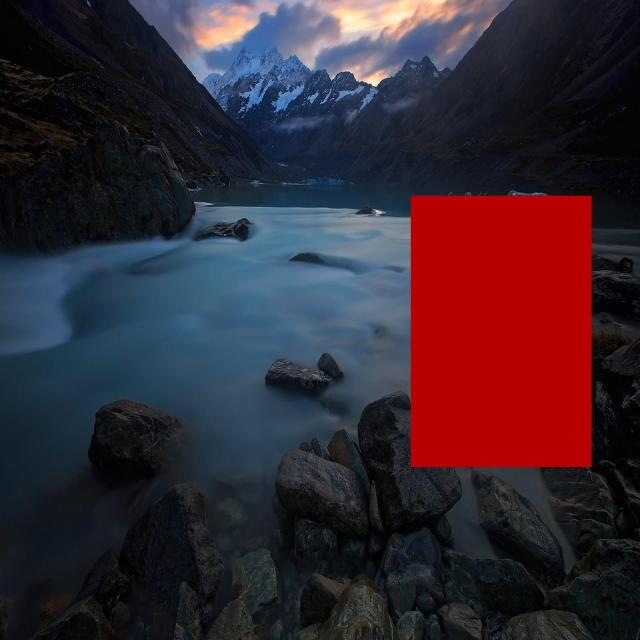RedSquare: (403, 184, 600, 478)
